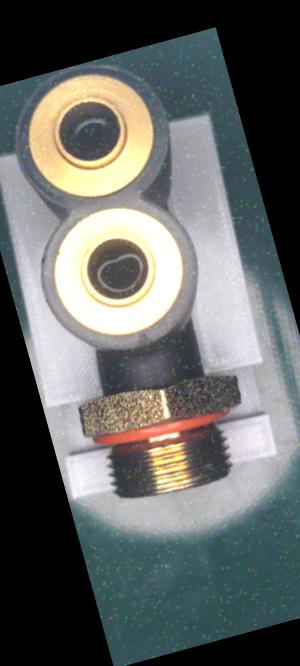bump: (131, 327, 157, 352)
joint line: (140, 353, 155, 380)
off-centered: (88, 246, 154, 301)
